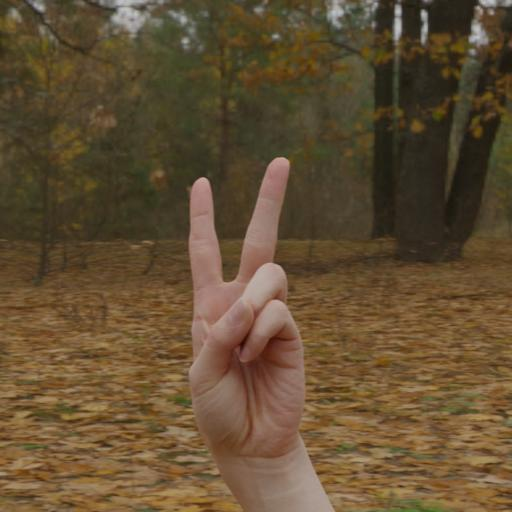V: (170, 150, 326, 476)
